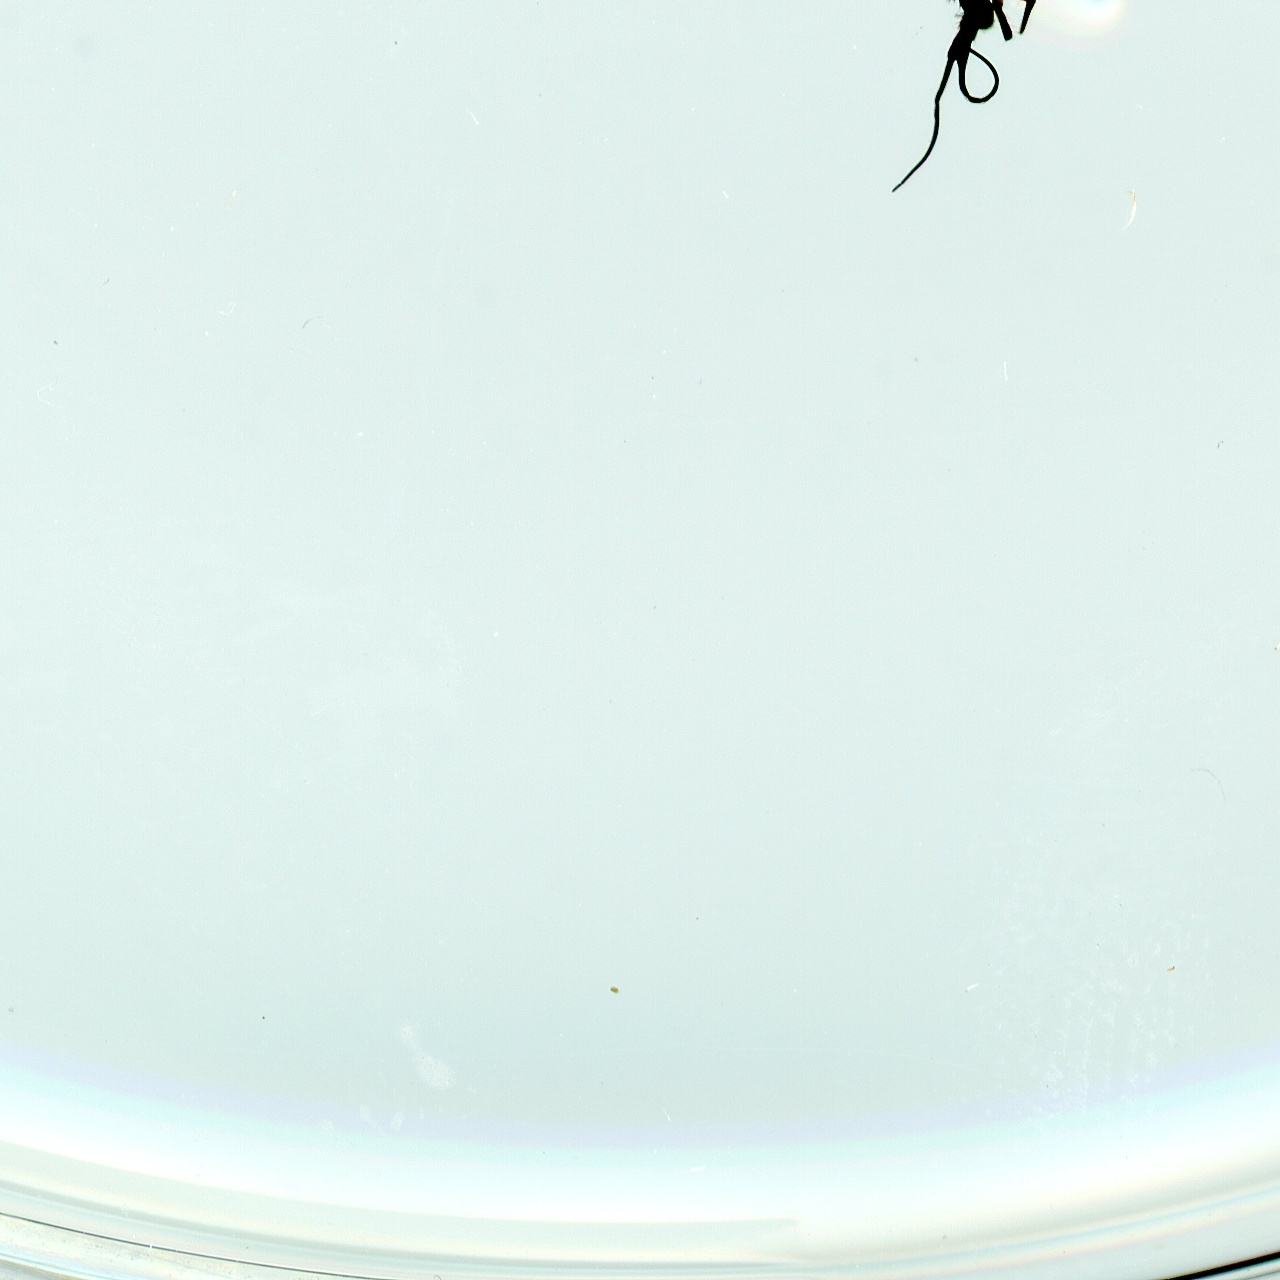arthropod: (840, 0, 1178, 257)
